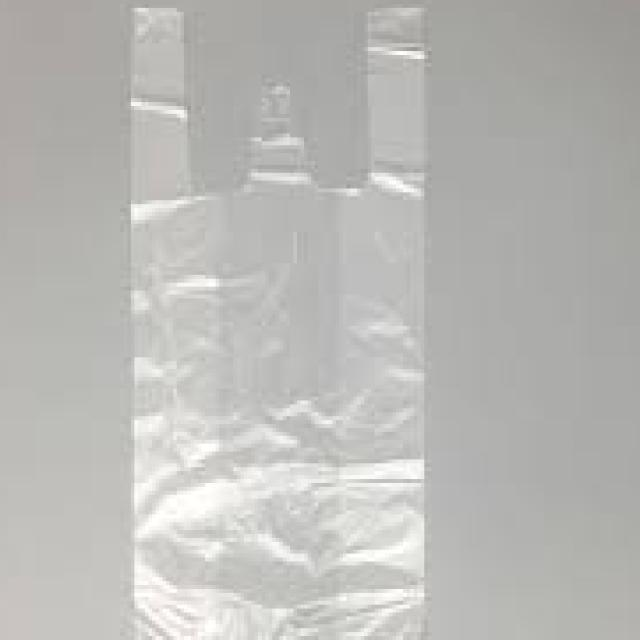organic: (100, 2, 461, 623)
